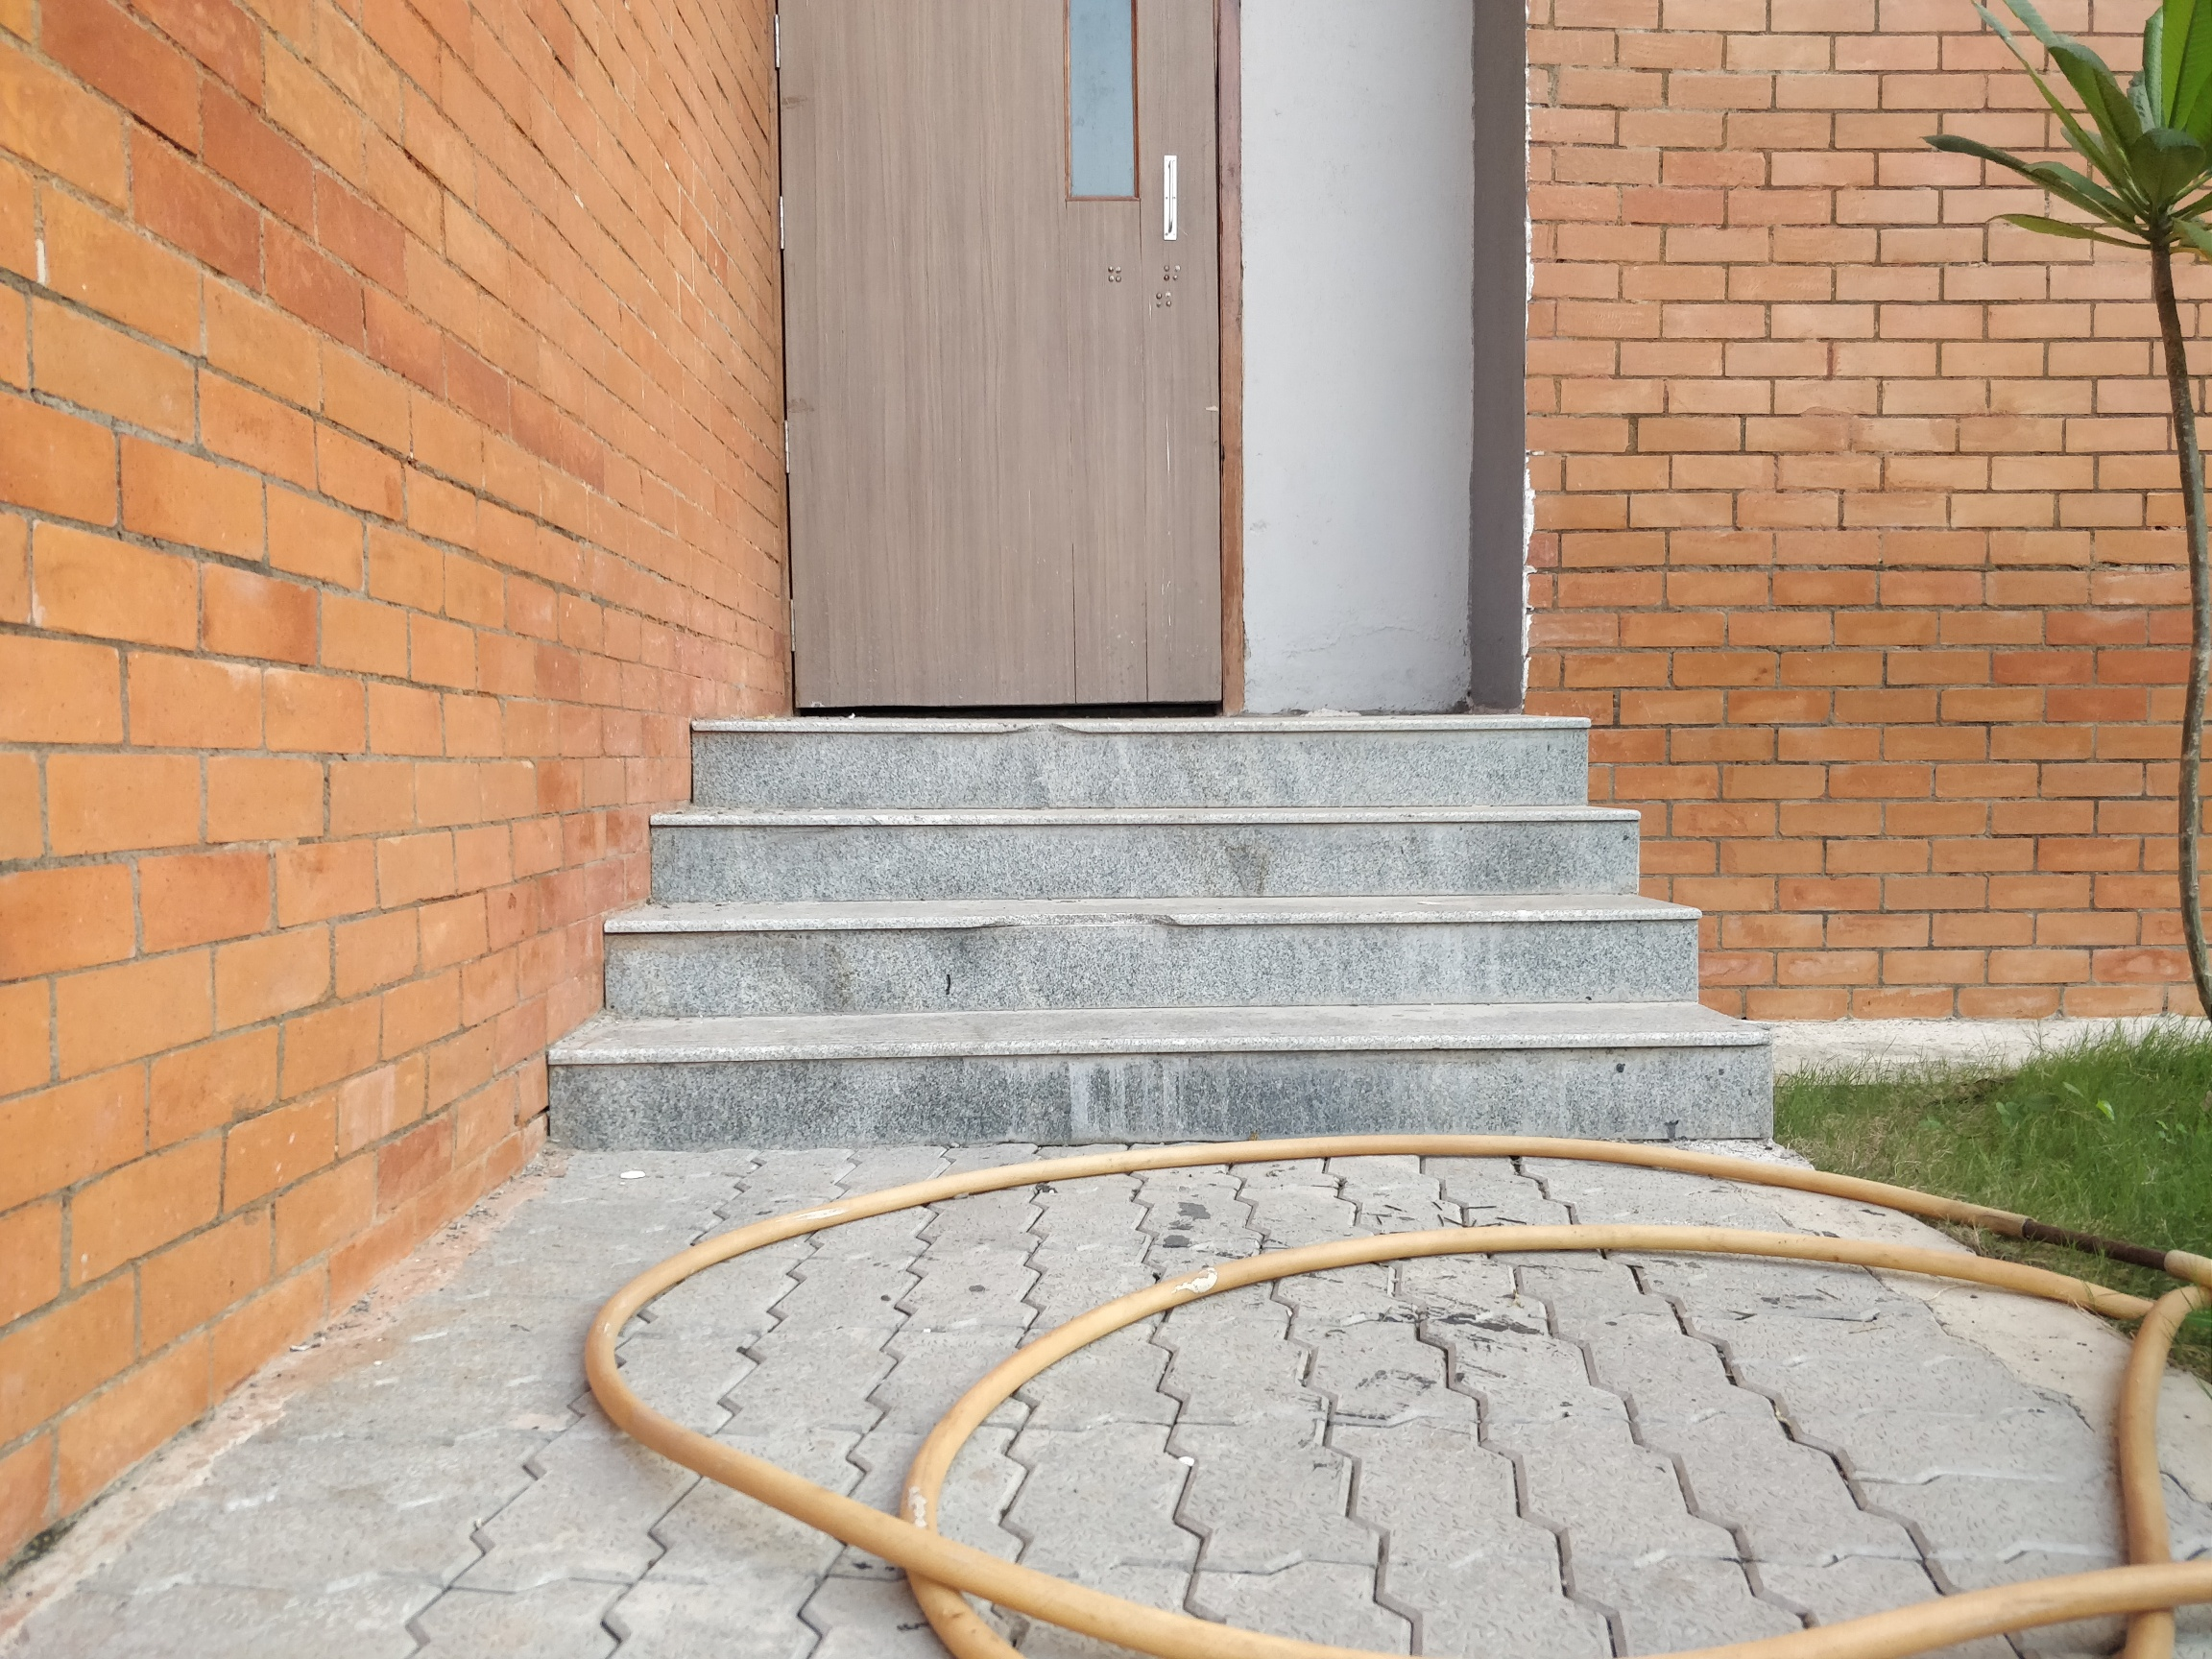stairs_up: (510, 695, 1775, 1154)
